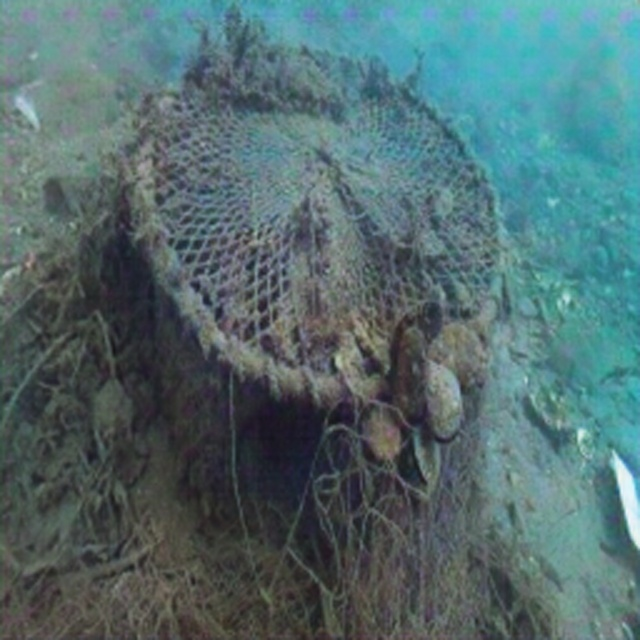mine: (132, 40, 509, 543)
